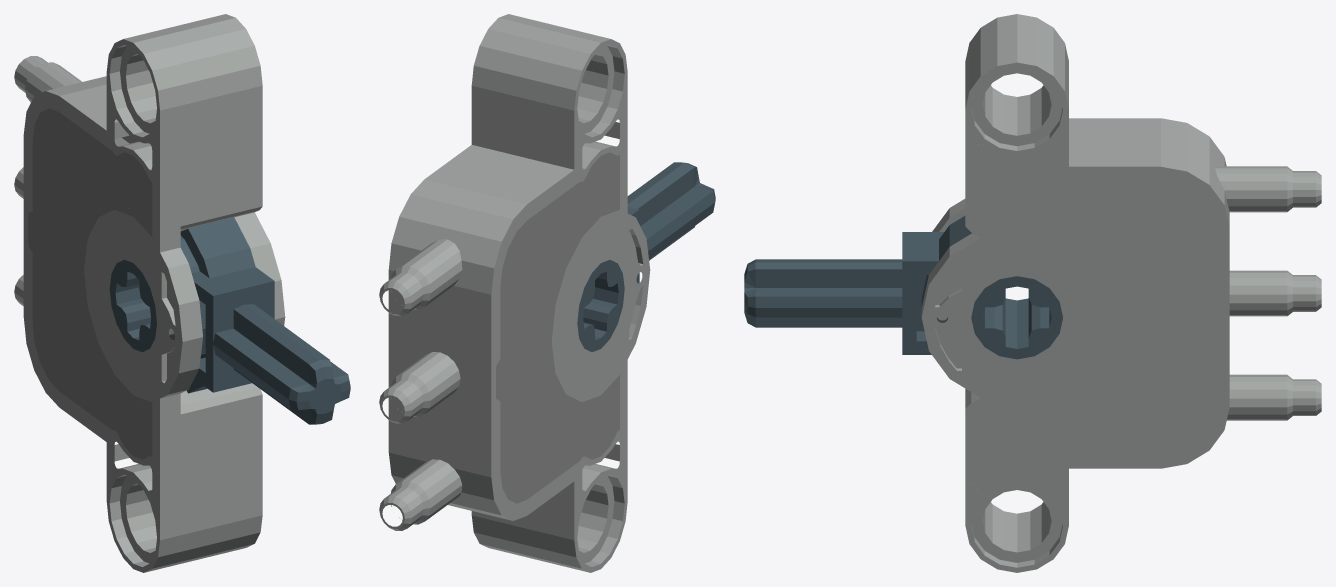
3 views of the same model, side by side, from view 1: azimuth 30°, elevation 25°; view 2: azimuth 150°, elevation 25°; view 3: azimuth 270°, elevation 25° (orthographic). The views are drawn at different scales.
Parts seen in each view (by area): view 1: world; view 2: world; view 3: world.
Boxes of the visible parts, left/top/right/bottom form: world: left=14, top=14, right=350, bottom=572; world: left=379, top=14, right=715, bottom=572; world: left=744, top=14, right=1321, bottom=572.
Bounding box in the file's own units: 0.008 × 0.0392 × 0.0402.
